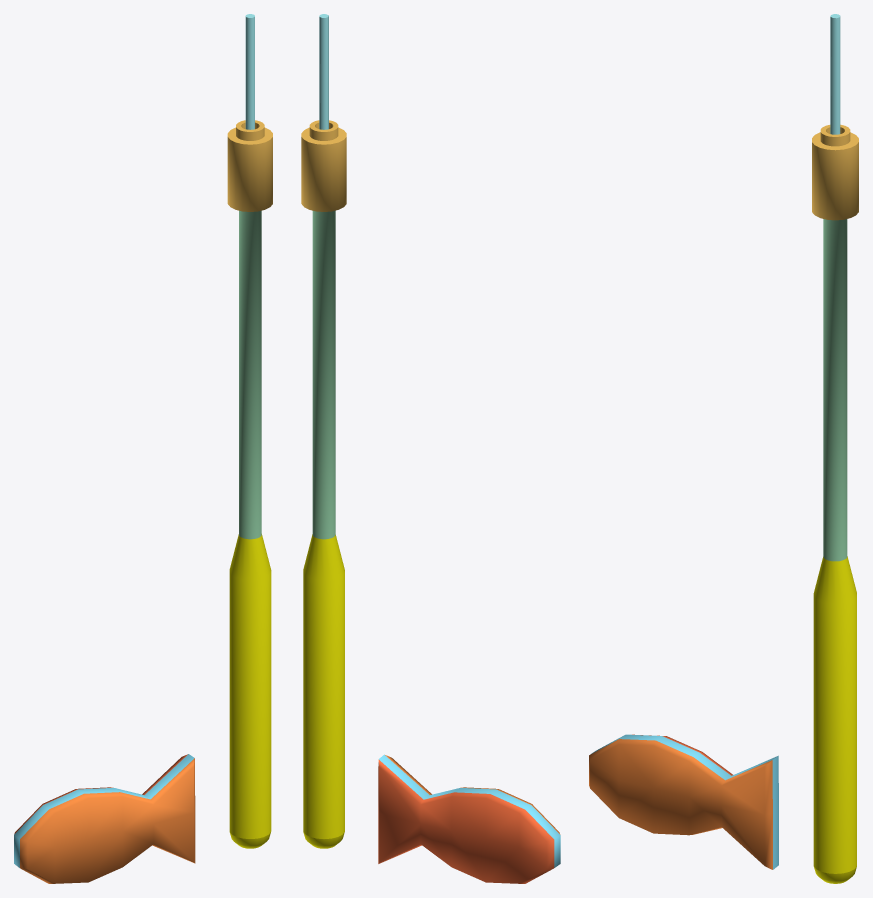
File: WandToy_cm1.fbx
The picture shows the model from 3 angles, left to right: view 1: azimuth 30°, elevation 25°; view 2: azimuth 150°, elevation 25°; view 3: azimuth 330°, elevation 25°; orthographic projection. The views are drawn at different scales.
Visible parts, largest first — view 1: Wand, Fish, Rope; view 2: Wand, Fish, Rope; view 3: Wand, Fish, Rope.
Part boxes in pixels (left/top/right/bottom): Wand: left=227, top=120, right=272, bottom=848; Fish: left=14, top=754, right=195, bottom=883; Rope: left=245, top=14, right=254, bottom=129; Wand: left=301, top=120, right=346, bottom=848; Fish: left=378, top=754, right=560, bottom=883; Rope: left=319, top=14, right=328, bottom=129; Wand: left=812, top=124, right=858, bottom=883; Fish: left=589, top=734, right=778, bottom=869; Rope: left=830, top=14, right=840, bottom=134.
Bounding box in the file's own units: 578 × 1813 × 89.27.
